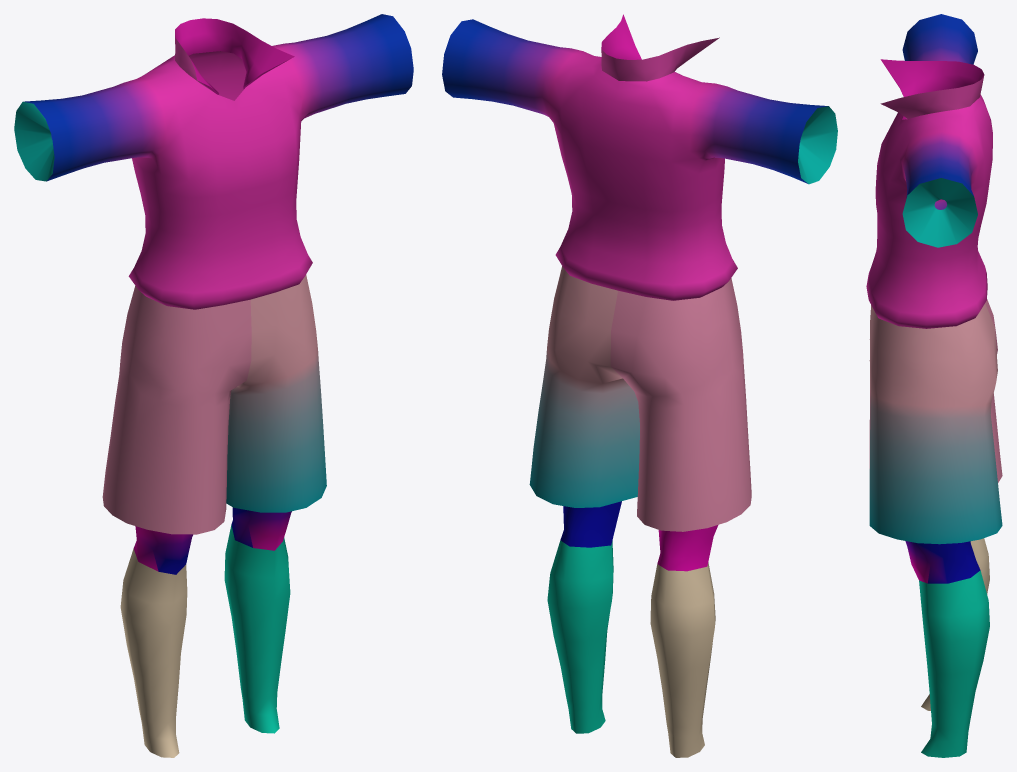
The model's file is 00_Standard_collarup.fbx.
3 views of the same model, side by side, from view 1: azimuth 30°, elevation 25°; view 2: azimuth 150°, elevation 25°; view 3: azimuth 270°, elevation 25° (orthographic). The views are drawn at different scales.
Visible parts, largest first — view 1: u000101_30, u000101_20, collar_11; view 2: u000101_30, u000101_20, collar_11; view 3: u000101_30, u000101_20, collar_11.
Part boxes in pixels (bbox=[...]): u000101_30: bbox=[102, 274, 326, 757]; u000101_20: bbox=[14, 14, 413, 309]; collar_11: bbox=[175, 18, 294, 94]; u000101_30: bbox=[529, 266, 751, 757]; u000101_20: bbox=[442, 19, 837, 300]; collar_11: bbox=[601, 14, 719, 81]; u000101_30: bbox=[869, 299, 1002, 757]; u000101_20: bbox=[866, 14, 992, 328]; collar_11: bbox=[880, 59, 984, 118].
Size of the model in its own units: 65.26 by 122 by 22.9.
